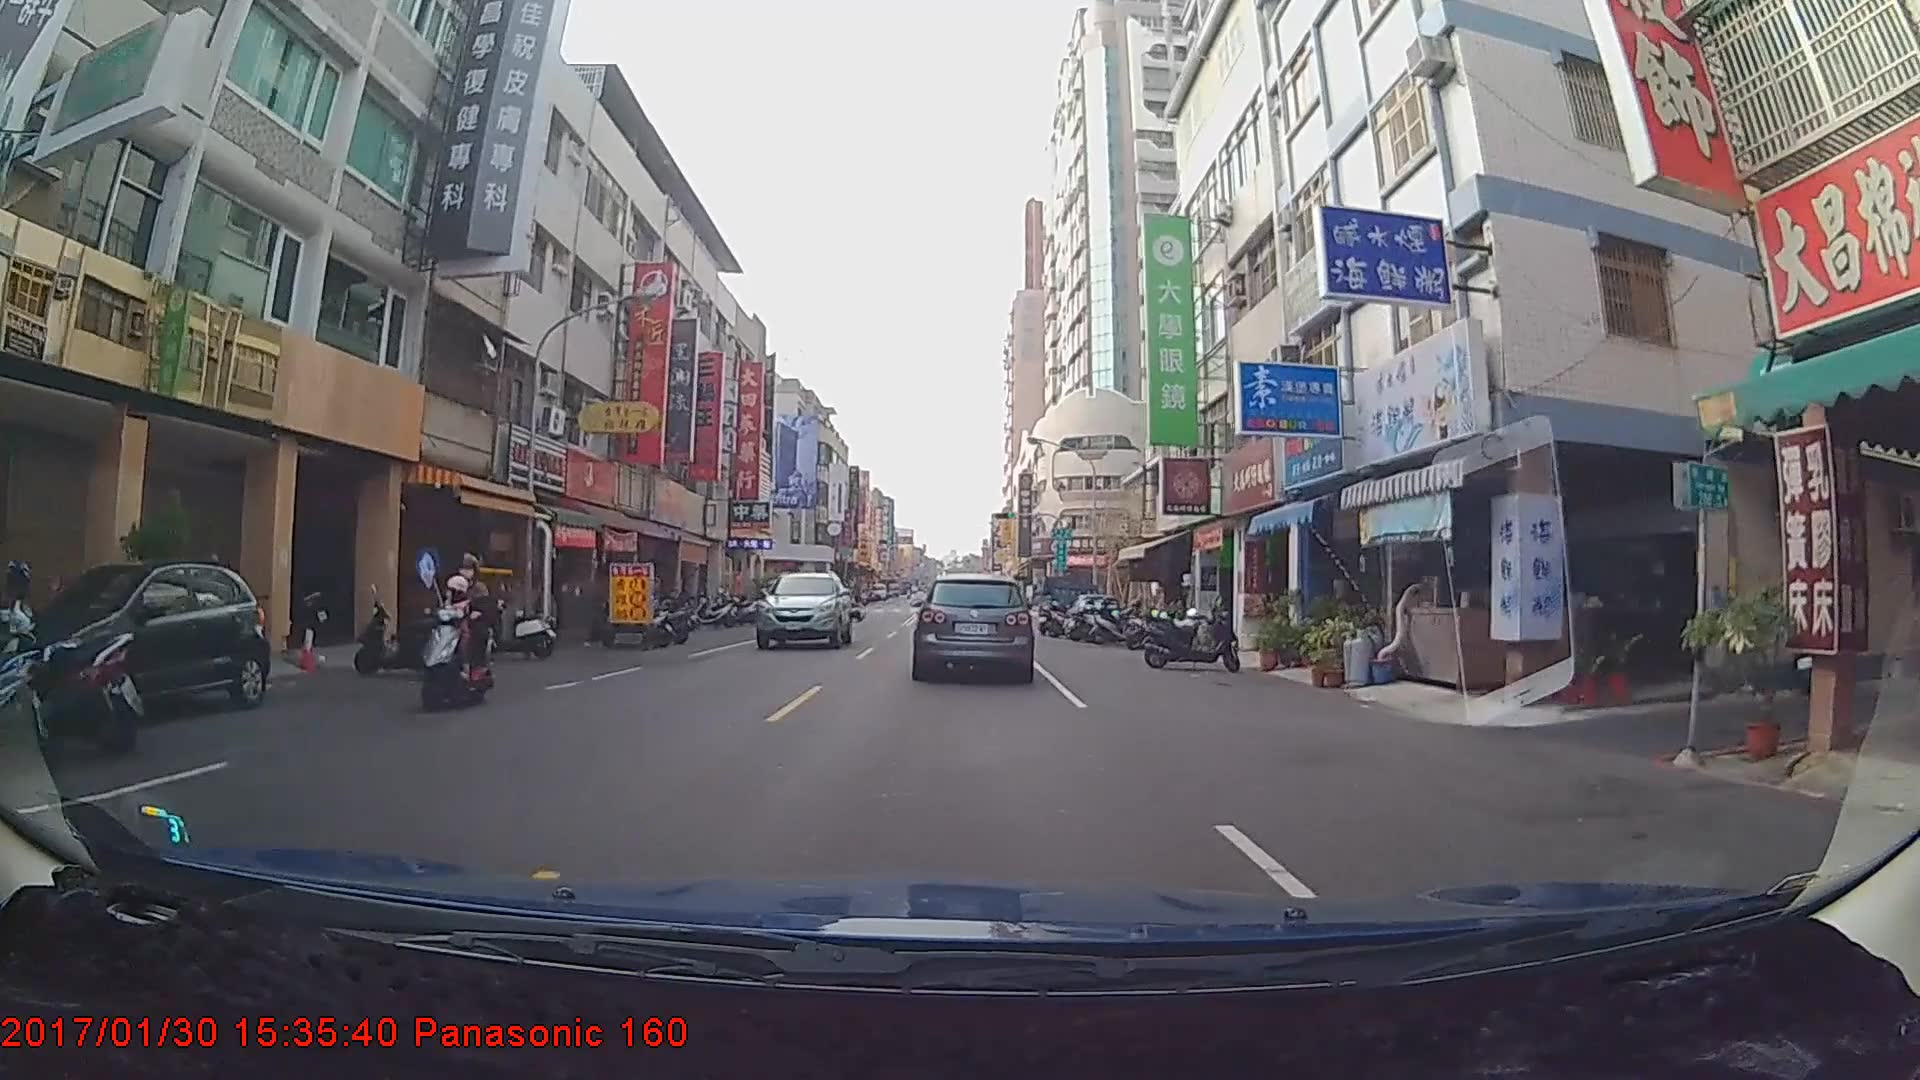rider: (418, 545, 504, 711)
vehicle: (912, 572, 1033, 681), (752, 571, 854, 651), (1035, 573, 1099, 630)
